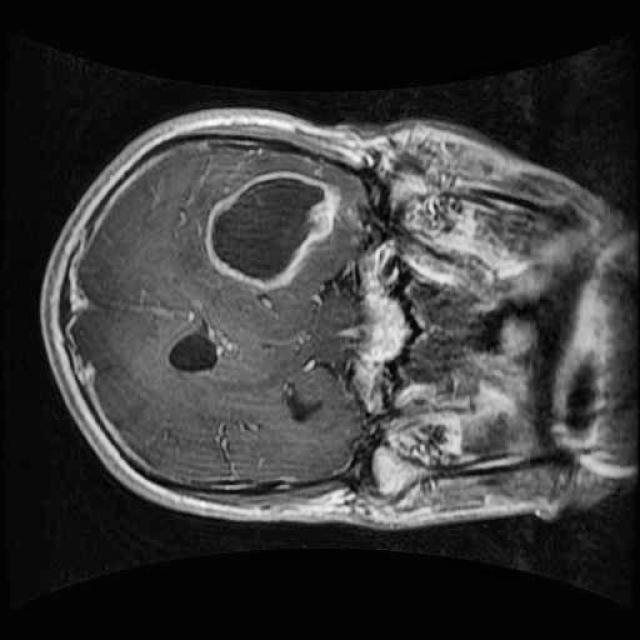Tumor: (191, 155, 343, 300)
